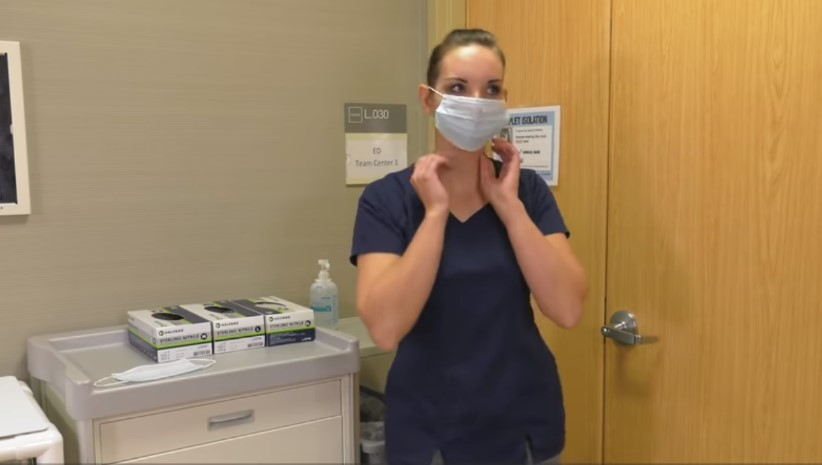face_with_mask: (422, 34, 511, 155)
